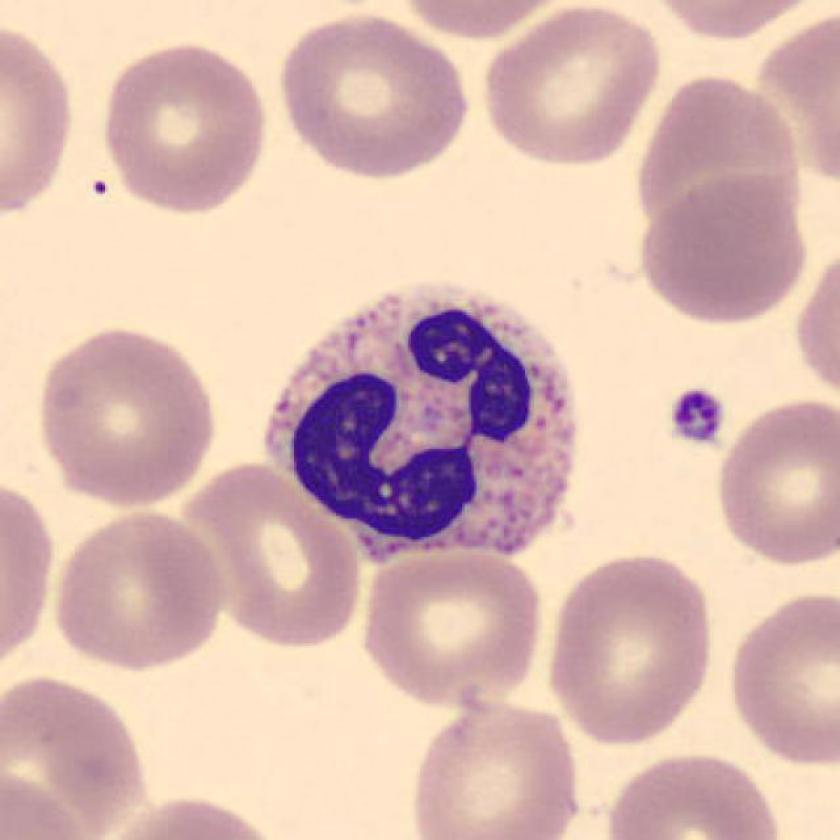neutrophil: (265, 290, 577, 569)
